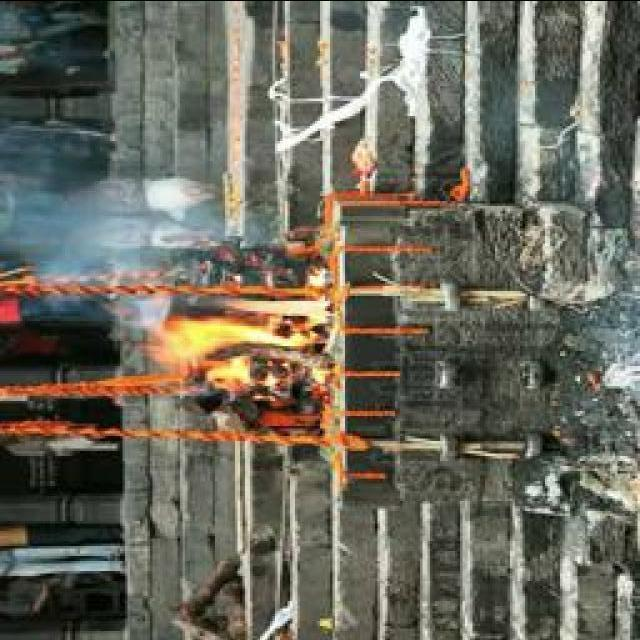Fire: (144, 295, 334, 391)
